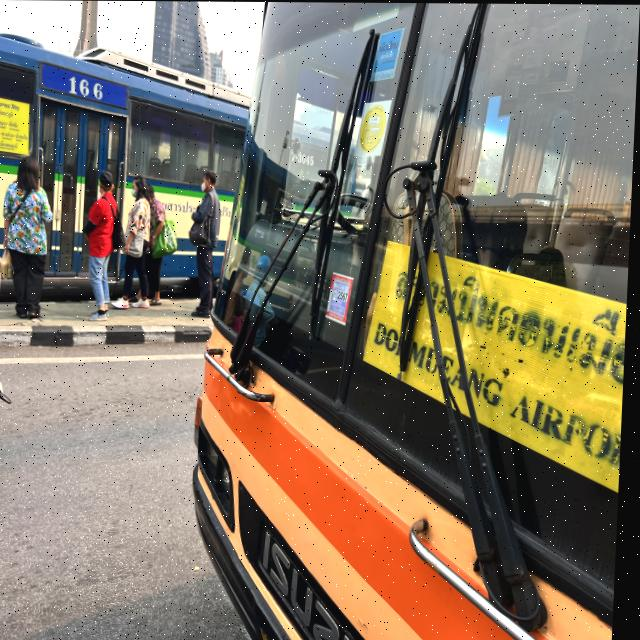BMTA-bus: (190, 1, 640, 640), (0, 22, 261, 306)
Bus-Line-Number: (65, 68, 109, 107)
Destination-Sign-Normal-Expressway: (362, 238, 632, 493)
